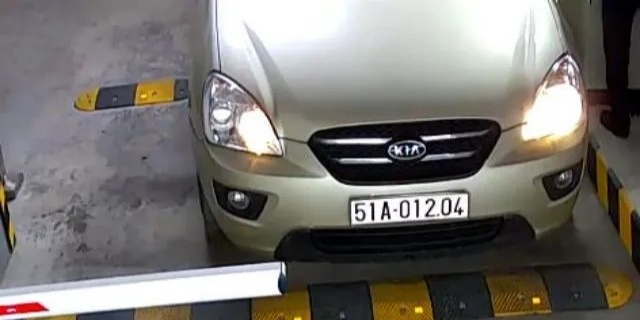bien_so: (350, 196, 468, 223)
